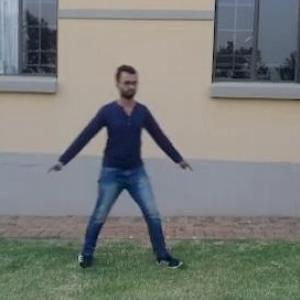land: (53, 67, 187, 254)
